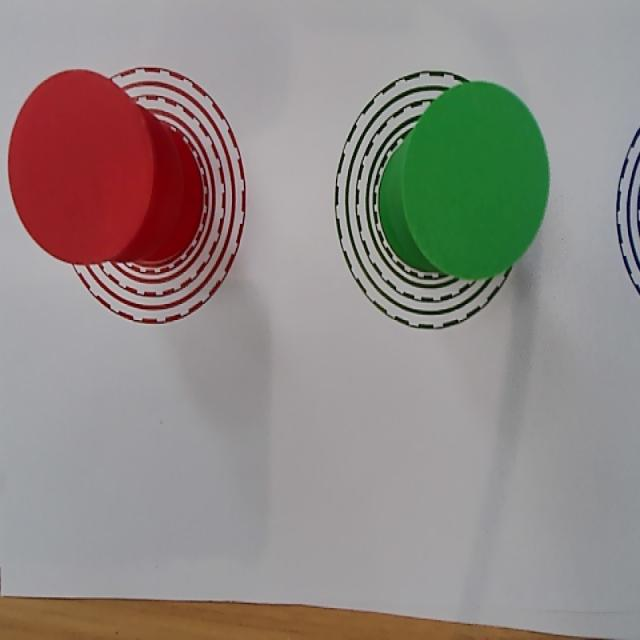g: (404, 81, 550, 279)
r: (8, 70, 153, 267)
